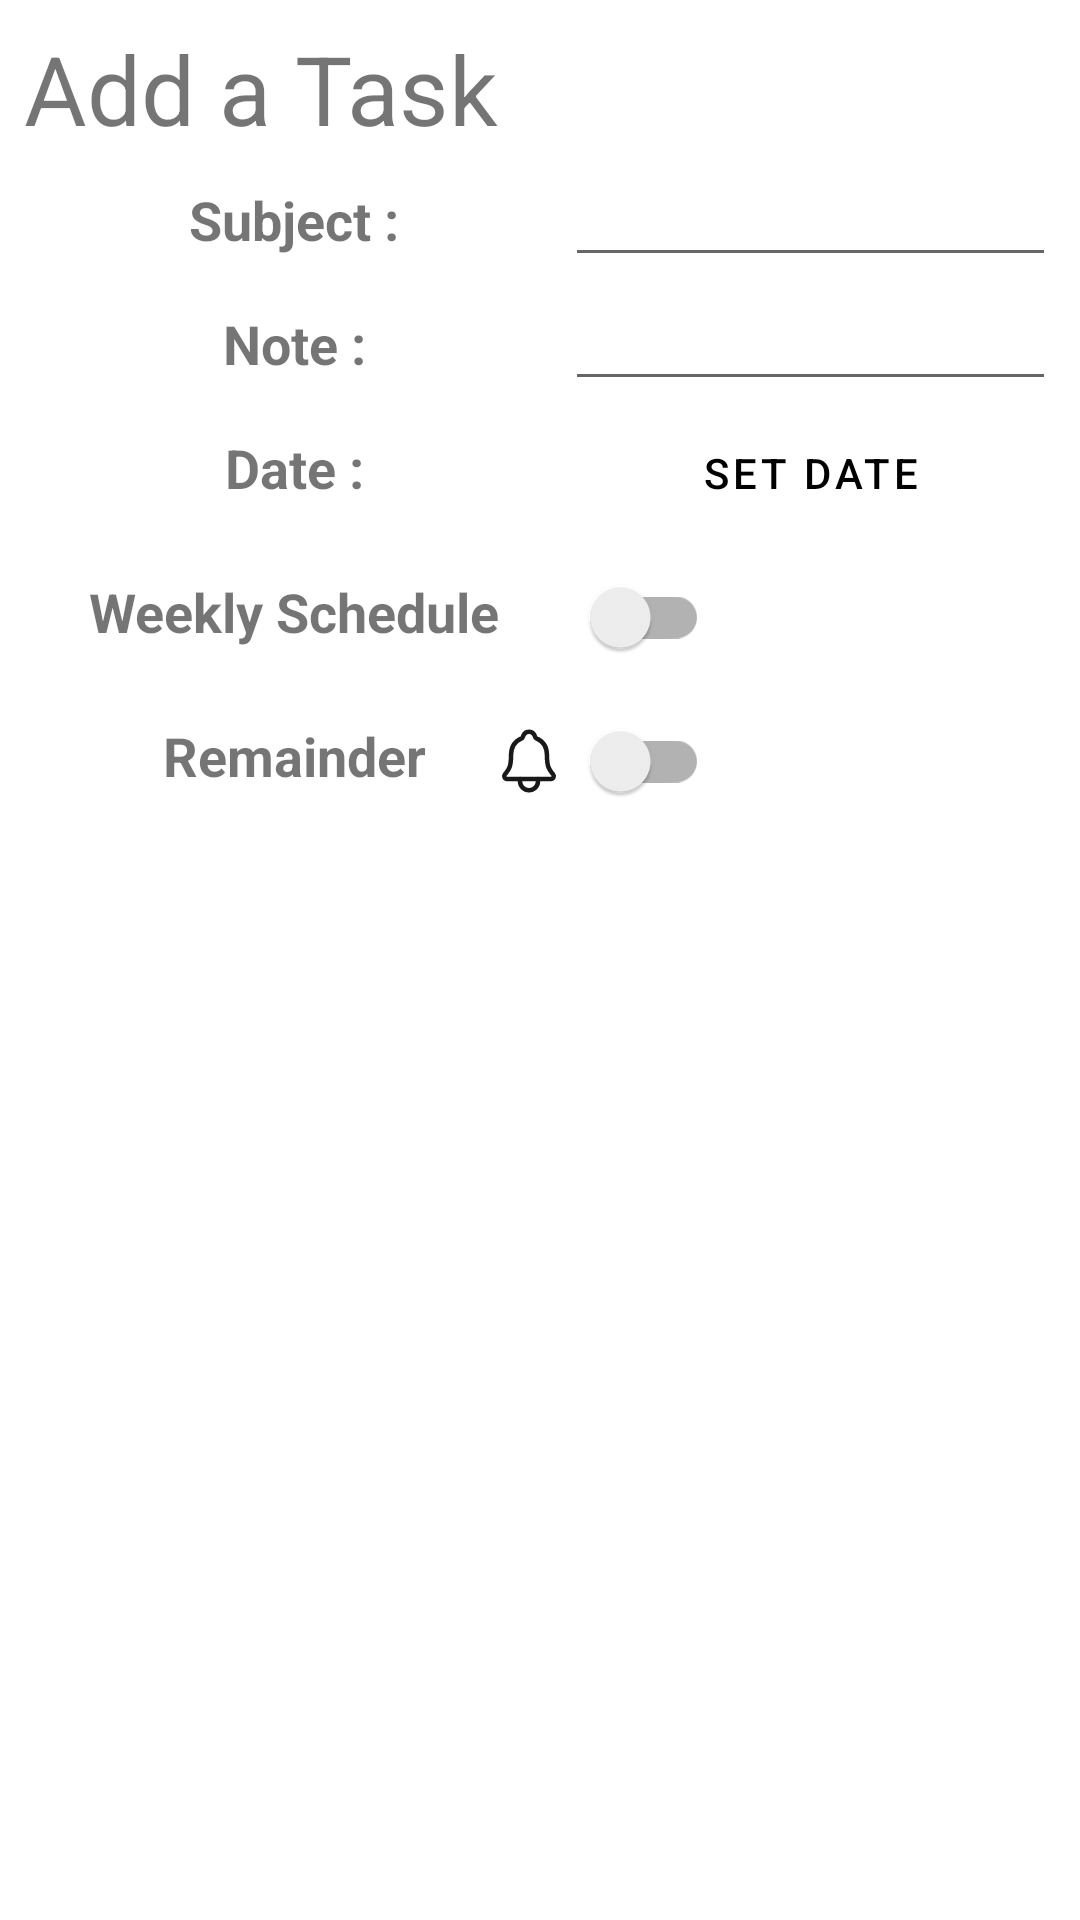

Where to tap for icons on this 1080x1920 app screen, as point (x, y):
bell: point (529, 761)
